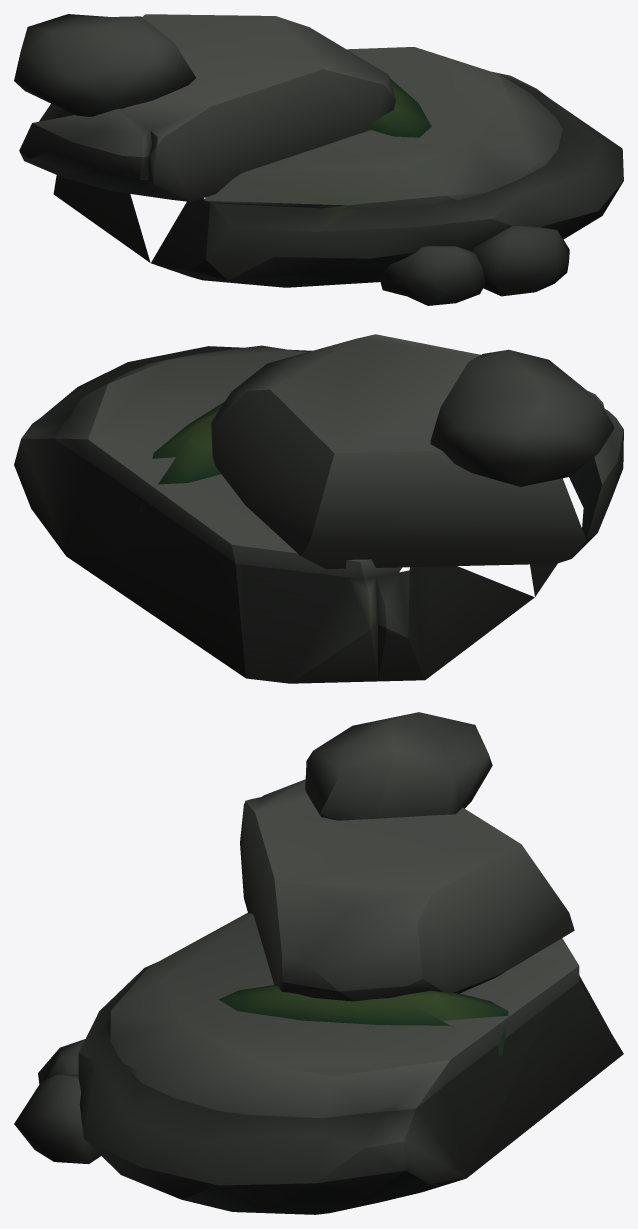
Rendered from rock_4.glb.
3 views of the same model, one above another, from view 1: azimuth 30°, elevation 25°; view 2: azimuth 150°, elevation 25°; view 3: azimuth 270°, elevation 25° (orthographic). The views are drawn at different scales.
Parts seen in each view (by area): view 1: rock_4; view 2: rock_4; view 3: rock_4.
Part boxes in pixels (<box>): rock_4: <box>14,14,623,305</box>; rock_4: <box>14,334,623,683</box>; rock_4: <box>14,712,623,1214</box>.
Bounding box in the file's own units: 0.4423 × 0.1754 × 0.383.
